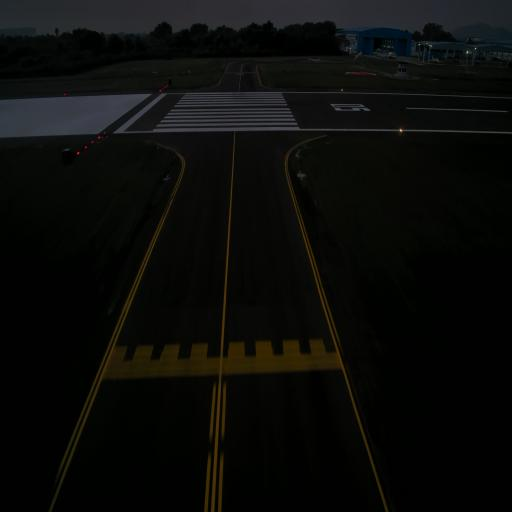on: (399, 125, 402, 134), (76, 150, 80, 156), (96, 136, 102, 140), (84, 145, 88, 150), (103, 130, 107, 135), (91, 140, 94, 144)
